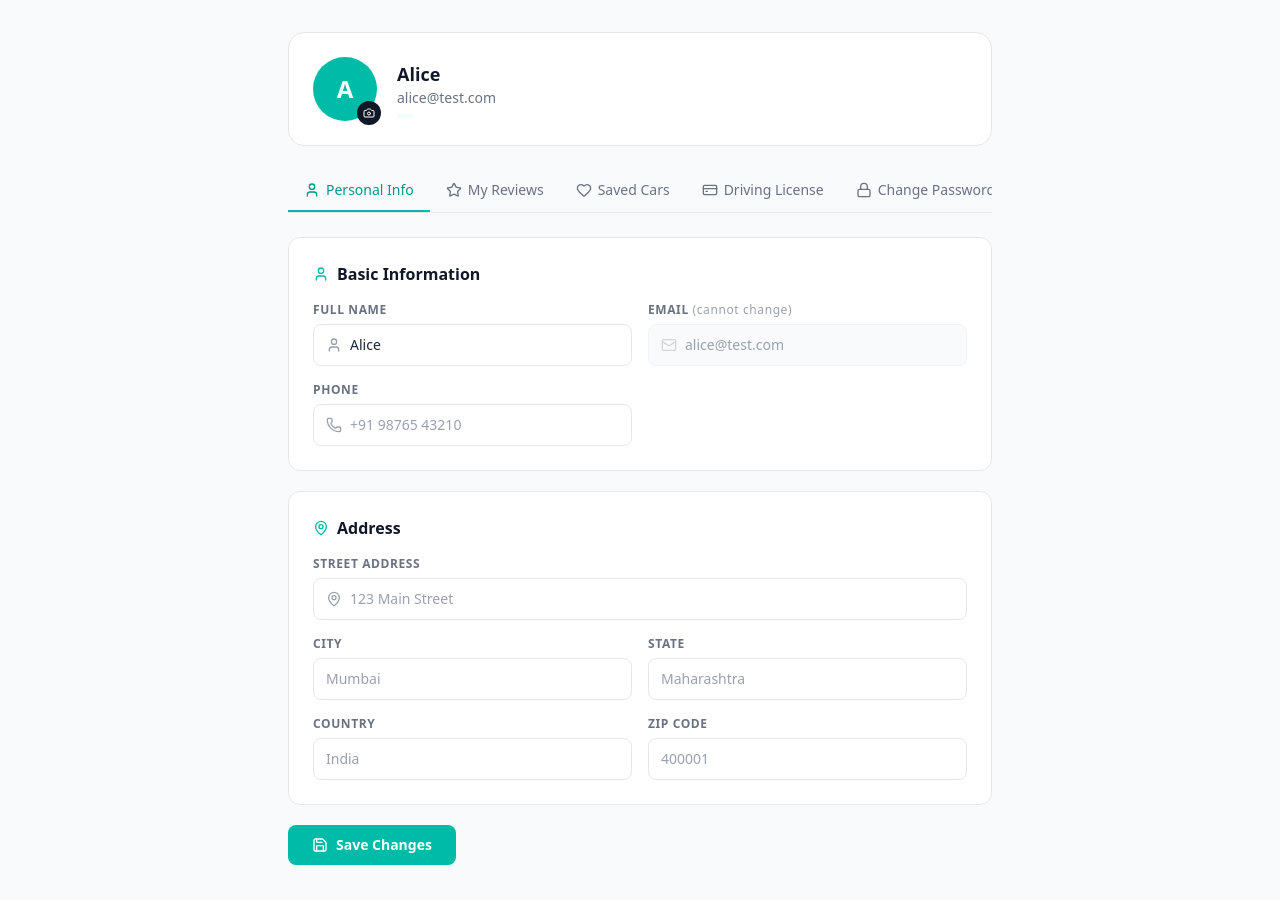
it: Profile — My Reviews tab › delete button opens ConfirmModal instead of window.confirm
What coordinates should you click on to do the following:
click the button "My Reviews"
I would click on:
 (495, 191)
Its box is x1=430 y1=170 x2=560 y2=212.
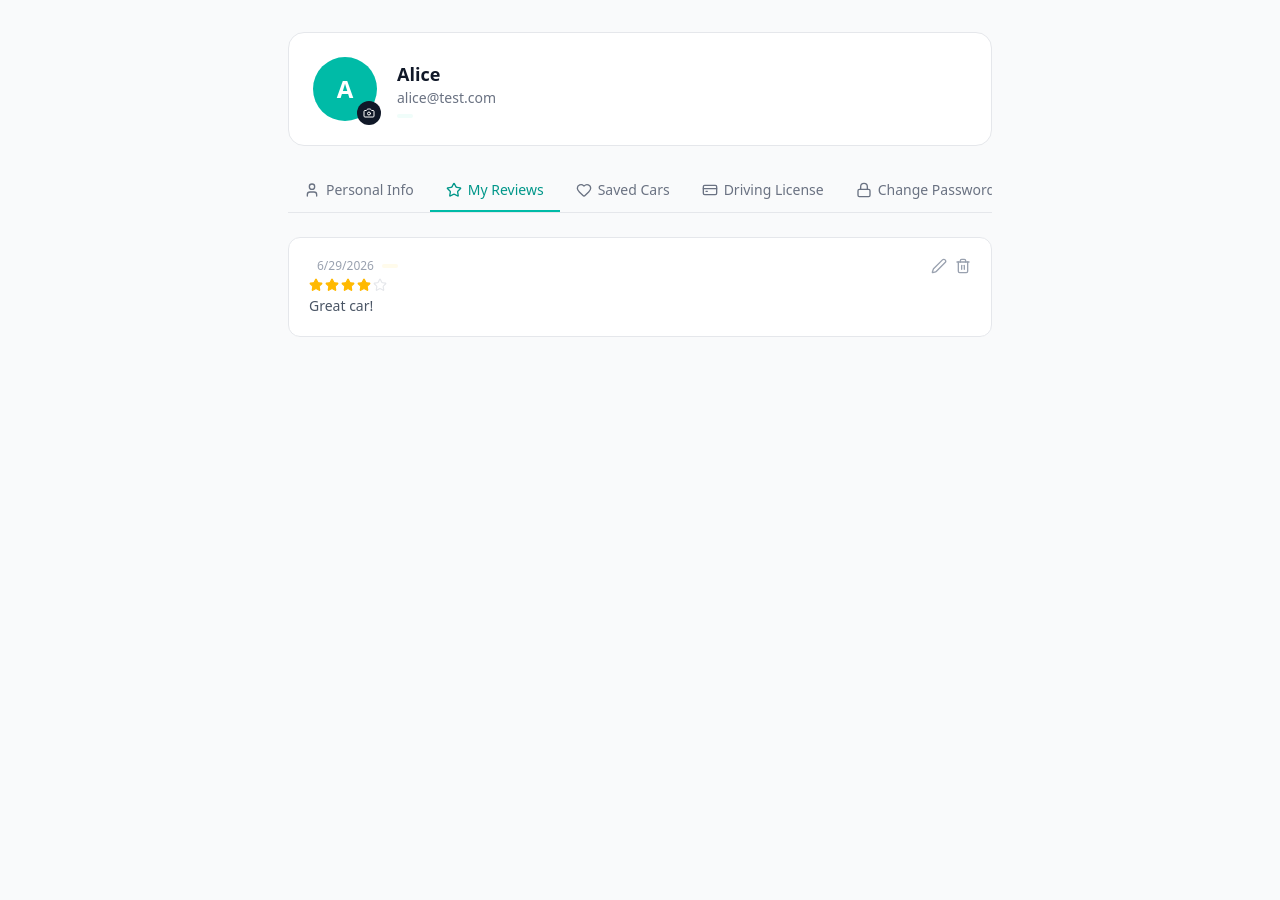
Result: the text "Great car!" is shown at x1=309 y1=296 x2=373 y2=315
What coordinates should you click on to do the following:
click the button titled "delete review"
I would click on:
 (963, 266)
Its box is x1=955 y1=258 x2=971 y2=274.
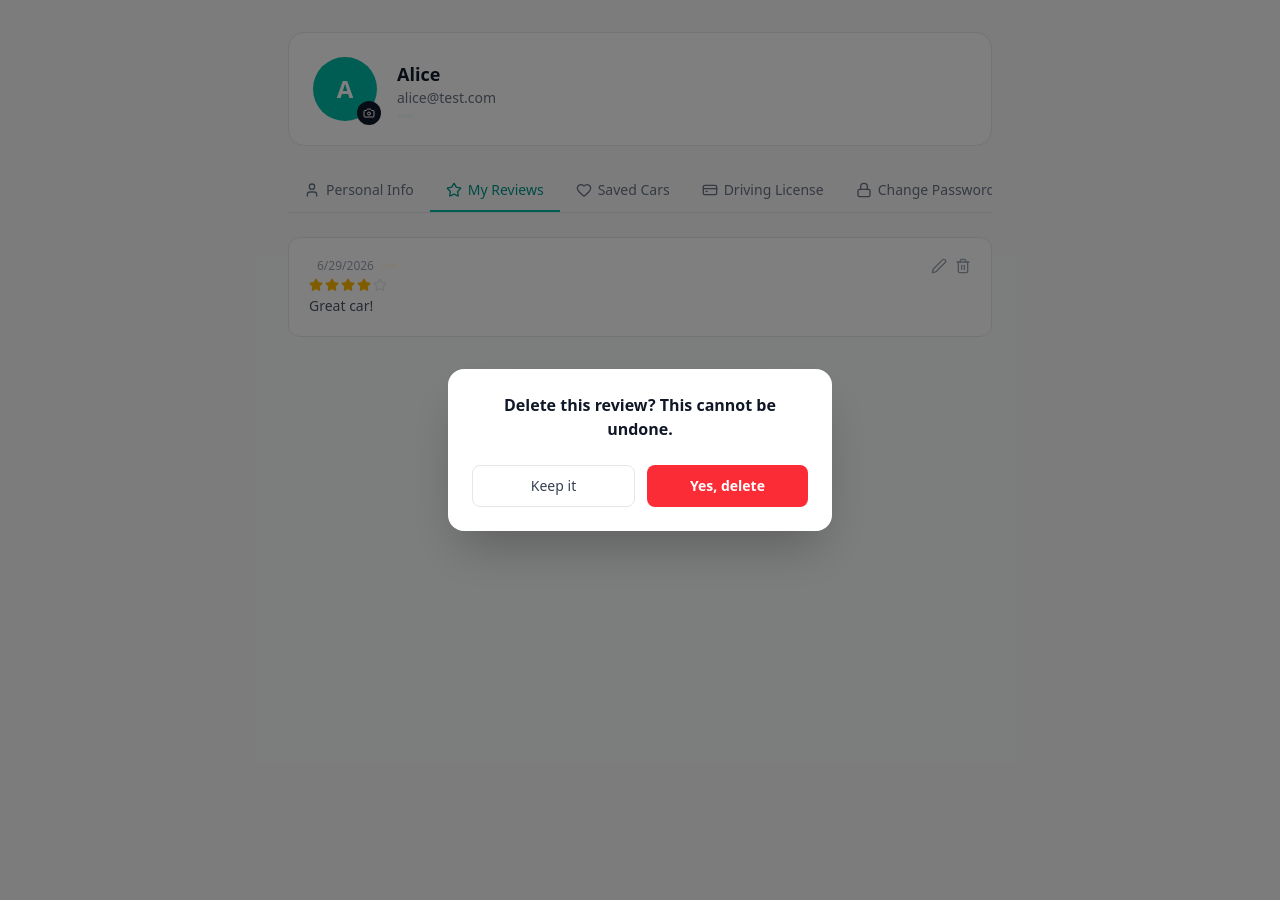
Result: the text "Delete this review? This cannot be undone." is shown at x1=504 y1=394 x2=776 y2=440
Result: the button "Yes, delete" is shown at x1=647 y1=465 x2=808 y2=507
Result: the button "Keep it" is shown at x1=472 y1=465 x2=635 y2=507
